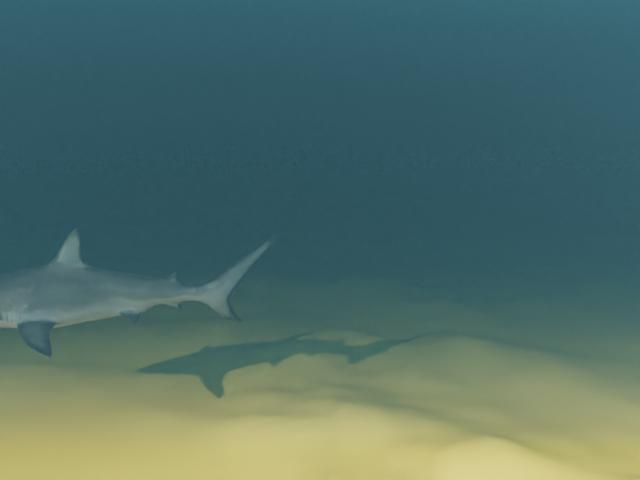Carribean Shark.001: (0, 228, 279, 357)
